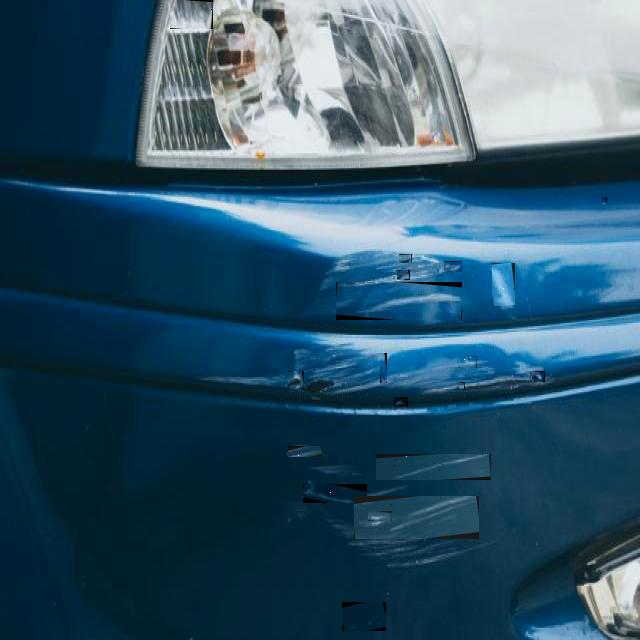Dent: (354, 496, 479, 539), (336, 282, 462, 320), (376, 454, 491, 480), (342, 602, 386, 631), (170, 0, 213, 29), (303, 484, 367, 503), (492, 263, 515, 306), (288, 446, 322, 457), (288, 371, 304, 389), (368, 511, 392, 521), (458, 356, 477, 368), (380, 353, 387, 383), (444, 261, 462, 272), (530, 371, 545, 382), (394, 397, 408, 407), (397, 270, 410, 280), (399, 254, 412, 263), (456, 382, 465, 390), (602, 197, 607, 203)
